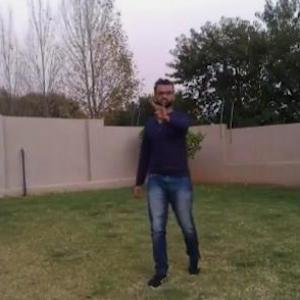takeoff-hand: (151, 92, 175, 119)
